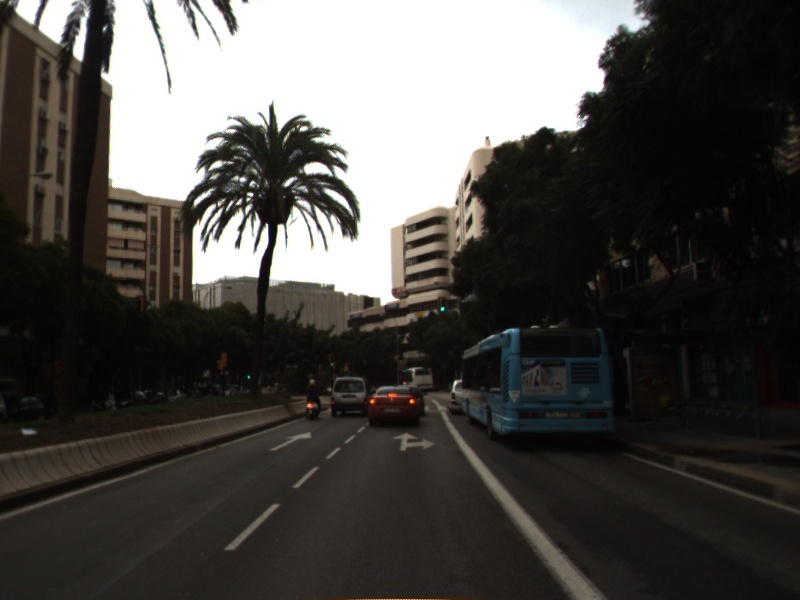STRAIGHT: (267, 430, 313, 453)
STRAIGHT_RIGHT: (390, 430, 438, 453)
